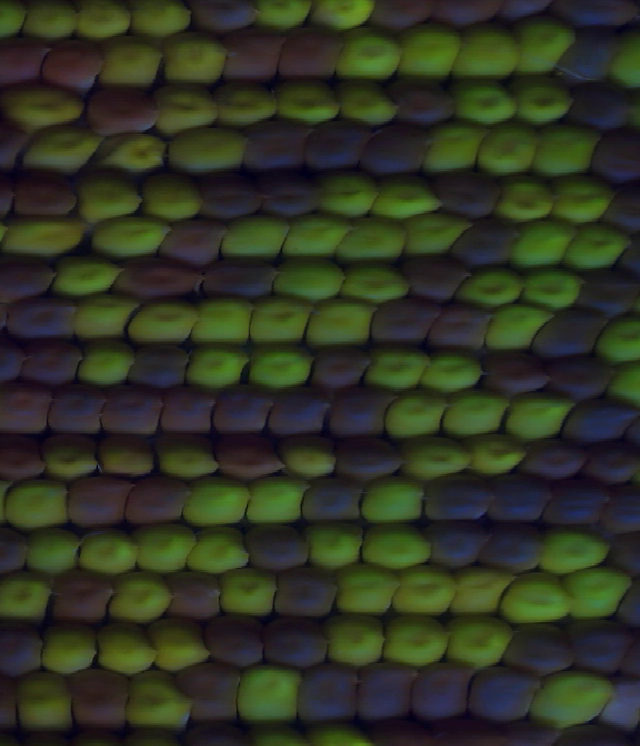fluorescent: (534, 674, 613, 724), (303, 297, 377, 348), (568, 565, 634, 622), (498, 576, 574, 623), (0, 81, 85, 123), (165, 128, 247, 171), (240, 661, 301, 718), (335, 28, 403, 79), (382, 617, 450, 668), (533, 533, 613, 576), (92, 217, 172, 259), (360, 524, 433, 570), (453, 27, 521, 76), (532, 124, 596, 176), (5, 480, 69, 530), (244, 344, 312, 391), (19, 127, 100, 166), (277, 213, 350, 256), (133, 519, 189, 575), (253, 293, 309, 349), (189, 298, 255, 345), (16, 676, 75, 728), (443, 616, 508, 663), (356, 486, 426, 529), (405, 28, 464, 79), (519, 24, 576, 76), (108, 574, 171, 621), (96, 624, 154, 675), (186, 480, 247, 528), (71, 345, 142, 386), (554, 175, 611, 226), (274, 76, 343, 118), (344, 219, 413, 261), (333, 566, 395, 612), (186, 529, 245, 577), (127, 682, 189, 727), (391, 572, 454, 616), (42, 434, 102, 480), (477, 128, 537, 174), (444, 396, 508, 439), (0, 574, 56, 623), (564, 229, 629, 271), (140, 177, 202, 221), (512, 218, 570, 265), (274, 260, 342, 300), (323, 617, 382, 663), (337, 81, 401, 123), (76, 177, 143, 217), (422, 123, 479, 170), (161, 38, 224, 80), (38, 628, 98, 672), (126, 1, 197, 38), (23, 1, 84, 44), (49, 256, 123, 291), (71, 293, 128, 338), (102, 44, 164, 85), (77, 534, 143, 572), (402, 442, 468, 480), (508, 396, 569, 437), (387, 396, 445, 439), (154, 624, 207, 671), (486, 306, 545, 348), (216, 81, 271, 126), (184, 347, 247, 386), (224, 216, 281, 258), (375, 181, 438, 219), (451, 569, 505, 613), (153, 439, 217, 476), (460, 80, 516, 122), (23, 527, 75, 572), (3, 221, 81, 251), (221, 574, 276, 616), (247, 479, 302, 521), (523, 269, 587, 305), (498, 181, 554, 222), (135, 300, 192, 340), (516, 81, 569, 124), (105, 137, 170, 172), (455, 442, 526, 474), (338, 270, 408, 302), (308, 527, 361, 568), (461, 270, 523, 305), (154, 86, 219, 119), (371, 350, 424, 390), (97, 437, 151, 475), (75, 2, 130, 39), (426, 359, 481, 396), (276, 442, 335, 476), (307, 1, 367, 32), (330, 174, 376, 213), (408, 219, 466, 248), (256, 1, 311, 30), (603, 321, 640, 363), (609, 360, 640, 403)
nonfluorescent: (466, 660, 539, 727), (66, 661, 129, 734), (408, 663, 469, 727), (96, 386, 177, 434), (445, 218, 522, 268), (324, 437, 411, 481), (366, 293, 428, 353), (180, 661, 239, 723), (354, 665, 416, 724), (201, 611, 268, 665), (0, 290, 75, 338), (226, 24, 285, 82), (300, 661, 354, 724), (272, 566, 338, 617), (501, 622, 571, 670), (211, 437, 287, 481), (242, 119, 305, 172), (305, 119, 368, 172), (566, 616, 623, 674), (211, 380, 269, 437), (265, 616, 324, 672), (70, 474, 129, 530), (484, 349, 554, 396), (430, 172, 501, 218), (93, 89, 164, 135), (116, 259, 201, 297), (426, 475, 493, 522), (426, 309, 490, 358), (285, 24, 339, 81), (495, 471, 553, 524), (13, 171, 77, 219), (539, 311, 608, 355), (565, 400, 635, 443), (243, 526, 311, 570), (306, 343, 371, 389), (269, 387, 328, 437), (549, 479, 608, 528), (201, 174, 265, 219), (393, 81, 453, 128), (18, 342, 82, 386), (163, 568, 216, 621), (205, 263, 277, 302), (55, 572, 114, 619), (368, 119, 422, 170), (519, 438, 586, 479), (258, 171, 319, 216), (159, 384, 213, 434), (164, 216, 224, 261), (557, 1, 640, 33), (421, 523, 484, 565), (329, 393, 389, 437), (0, 380, 48, 434), (572, 276, 640, 314), (130, 475, 190, 518), (549, 355, 609, 398), (592, 128, 640, 181), (49, 43, 103, 90), (130, 340, 185, 386), (572, 85, 629, 129), (0, 429, 45, 484), (48, 385, 97, 434), (582, 443, 640, 484), (302, 479, 361, 519), (564, 28, 609, 80), (0, 37, 49, 84), (406, 258, 465, 296), (0, 614, 40, 668), (190, 1, 253, 35), (373, 1, 437, 34), (0, 261, 54, 297), (489, 529, 537, 569), (602, 484, 640, 533), (439, 1, 502, 27), (606, 182, 640, 229), (603, 533, 640, 574)
